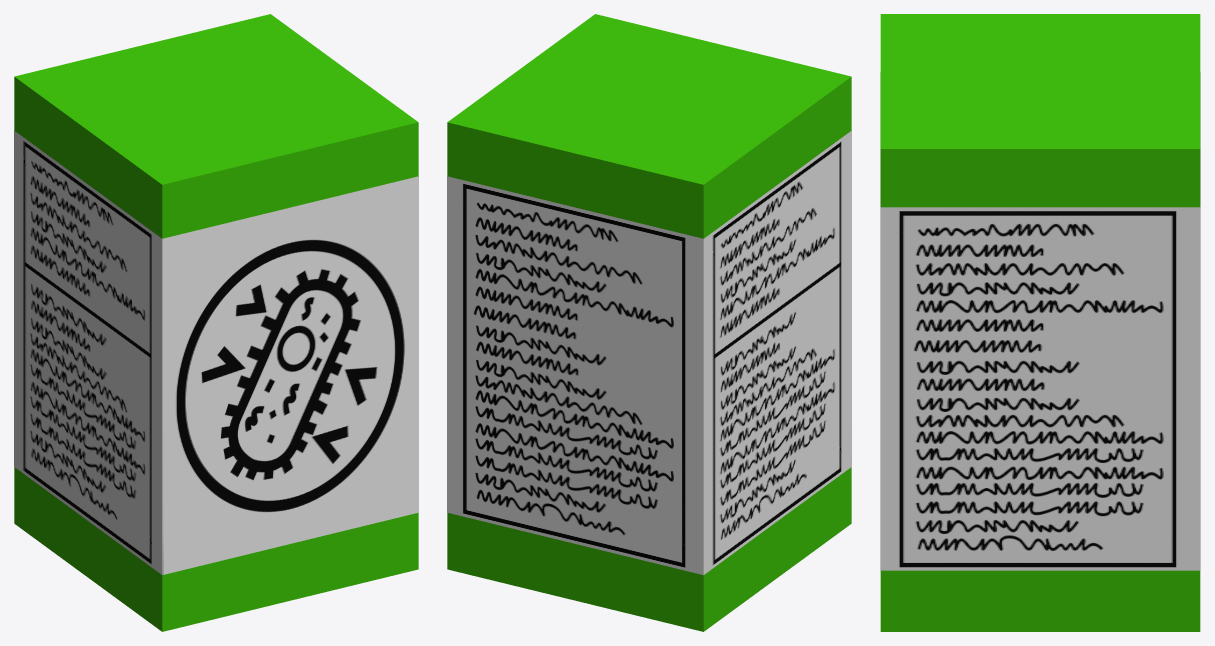
Rendered from antisepticOTC.fbx.
3 views of the same model, side by side, from view 1: azimuth 30°, elevation 25°; view 2: azimuth 150°, elevation 25°; view 3: azimuth 270°, elevation 25° (orthographic). The views are drawn at different scales.
Parts seen in each view (by area): view 1: antisepticLabel, firstAidBox; view 2: antisepticLabel, firstAidBox; view 3: antisepticLabel, firstAidBox.
Boxes of the visible parts, left/top/right/bottom form: antisepticLabel: left=14, top=130, right=418, bottom=574; firstAidBox: left=14, top=14, right=418, bottom=631; antisepticLabel: left=447, top=130, right=851, bottom=575; firstAidBox: left=447, top=14, right=851, bottom=631; antisepticLabel: left=880, top=72, right=1200, bottom=570; firstAidBox: left=880, top=14, right=1200, bottom=631.
Bounding box in the file's own units: 12.01 × 20 × 12.01.
